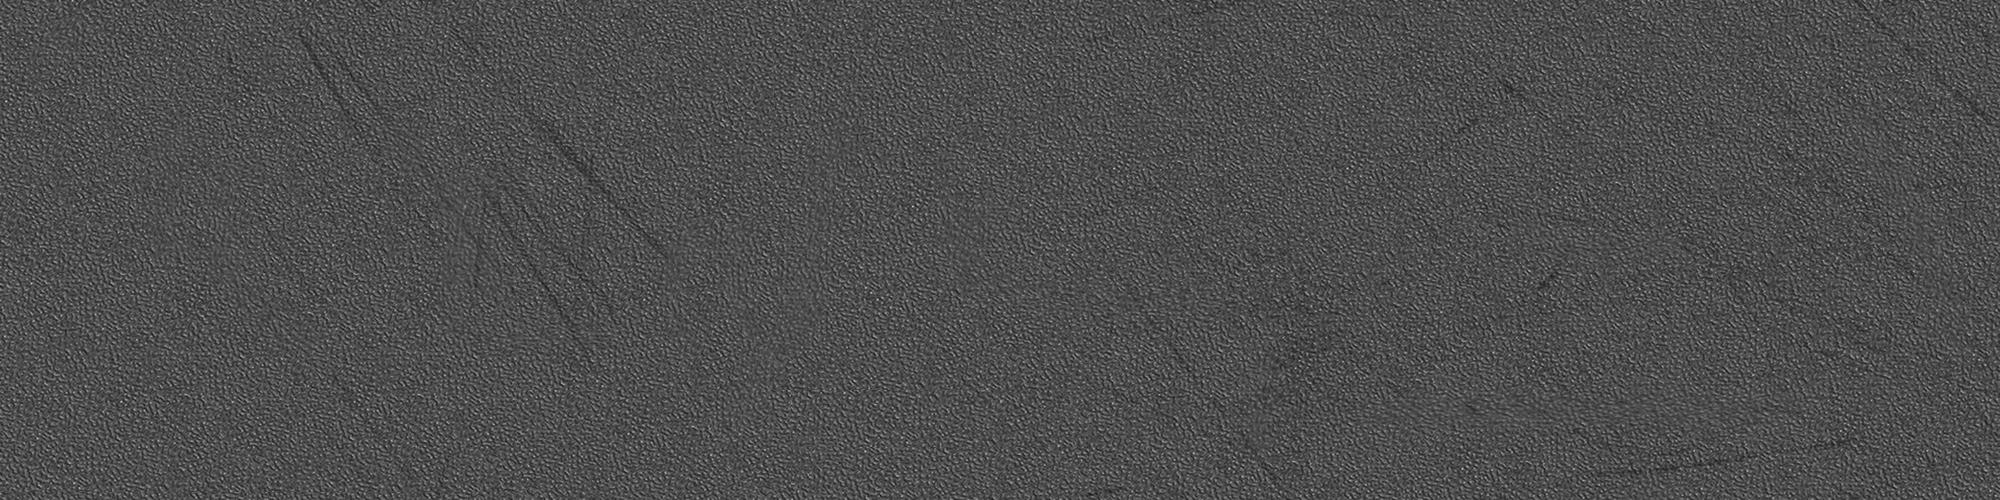Scratches: (418, 161, 619, 364), (1124, 283, 1291, 491), (513, 93, 677, 267), (1423, 369, 1782, 429), (1717, 77, 1858, 210), (1580, 432, 1858, 487), (324, 380, 452, 499), (1659, 232, 1795, 335), (249, 203, 339, 327), (295, 31, 386, 151), (1490, 62, 1585, 156), (1473, 246, 1574, 332), (1800, 316, 1901, 384), (1071, 5, 1230, 47), (1415, 105, 1486, 175), (437, 26, 500, 84), (717, 418, 759, 496), (1855, 0, 1904, 61), (1542, 204, 1611, 247), (1304, 11, 1430, 27), (218, 34, 244, 99)
